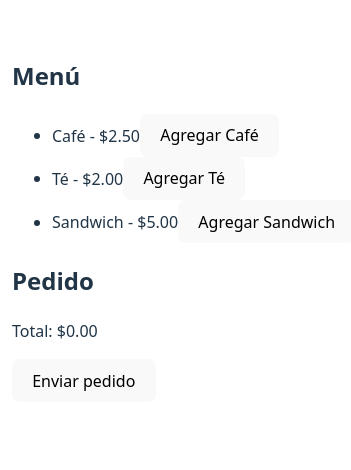
Test: envía el pedido y confirma
This screenshot has width=351, height=470.
Click the button "Agregar Café".
click(210, 135)  # box top-left (140, 114), bottom-right (279, 157)
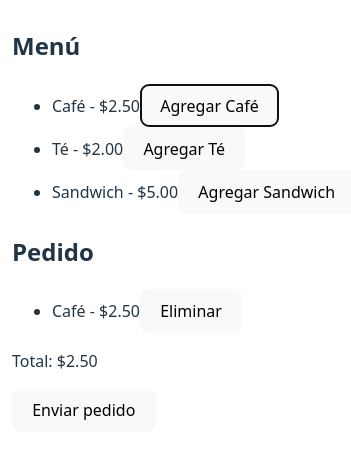
Click the button "Agregar Té".
click(184, 149)  # box top-left (123, 127), bottom-right (245, 170)
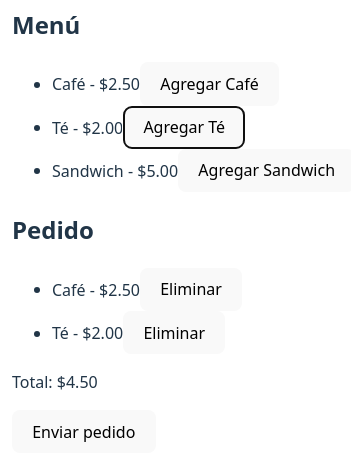
envia el pedido
Click the button "Enviar pedido".
click(84, 432)  # box top-left (12, 410), bottom-right (156, 453)
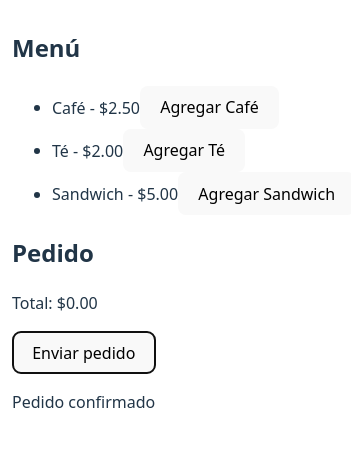
Check: the text "Pedido confirmado" is shown, box top-left (12, 391), bottom-right (155, 413)
